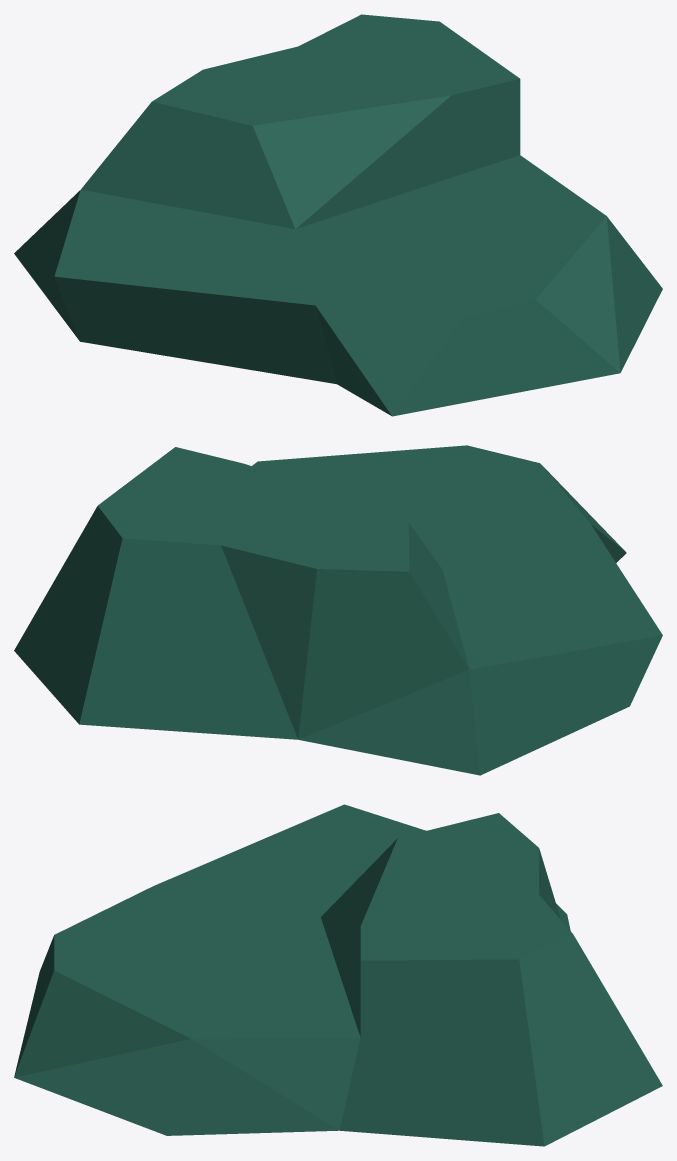
The model's file is SM_Env_Mounds_03.fbx.
The picture shows the model from 3 angles, top to bottom: view 1: azimuth 30°, elevation 25°; view 2: azimuth 150°, elevation 25°; view 3: azimuth 270°, elevation 25°; orthographic projection.
Visible parts, largest first — view 1: SM_Env_Mounds2; view 2: SM_Env_Mounds2; view 3: SM_Env_Mounds2.
Part boxes in pixels (box(x1,y1,x2,y2)): SM_Env_Mounds2: box(14, 14, 662, 416); SM_Env_Mounds2: box(14, 445, 662, 775); SM_Env_Mounds2: box(14, 804, 662, 1146).
Bounding box in the file's own units: 262 × 70 × 270.
